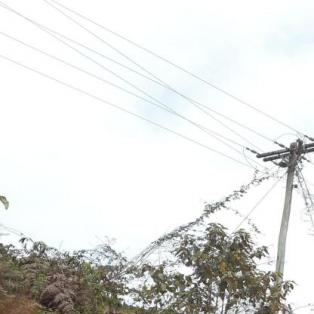Poste: (253, 139, 306, 314)
